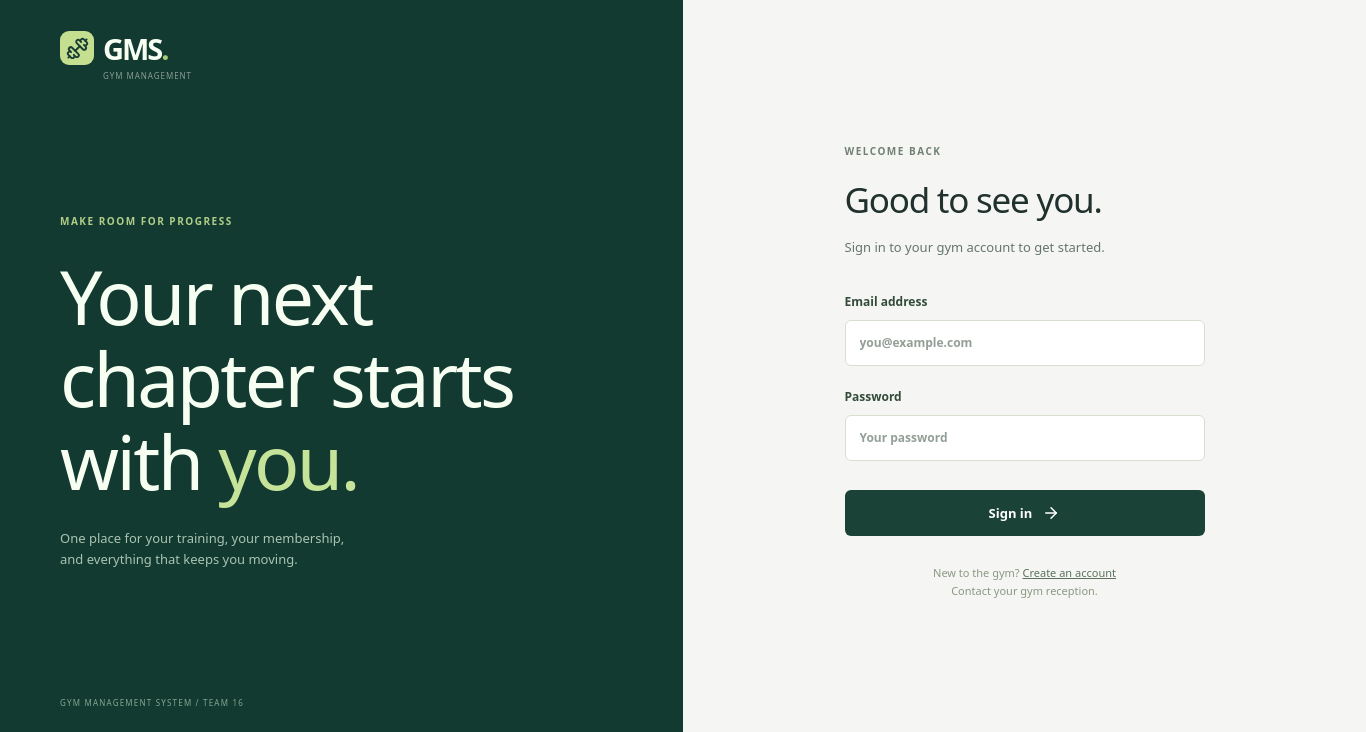
Scenario: member registration UI / issue #2 › submits only registration fields and returns to login with the email prefilled
The image size is (1366, 732).
Click the button "Create an account" at [1069, 573], box [1022,564,1116,582]
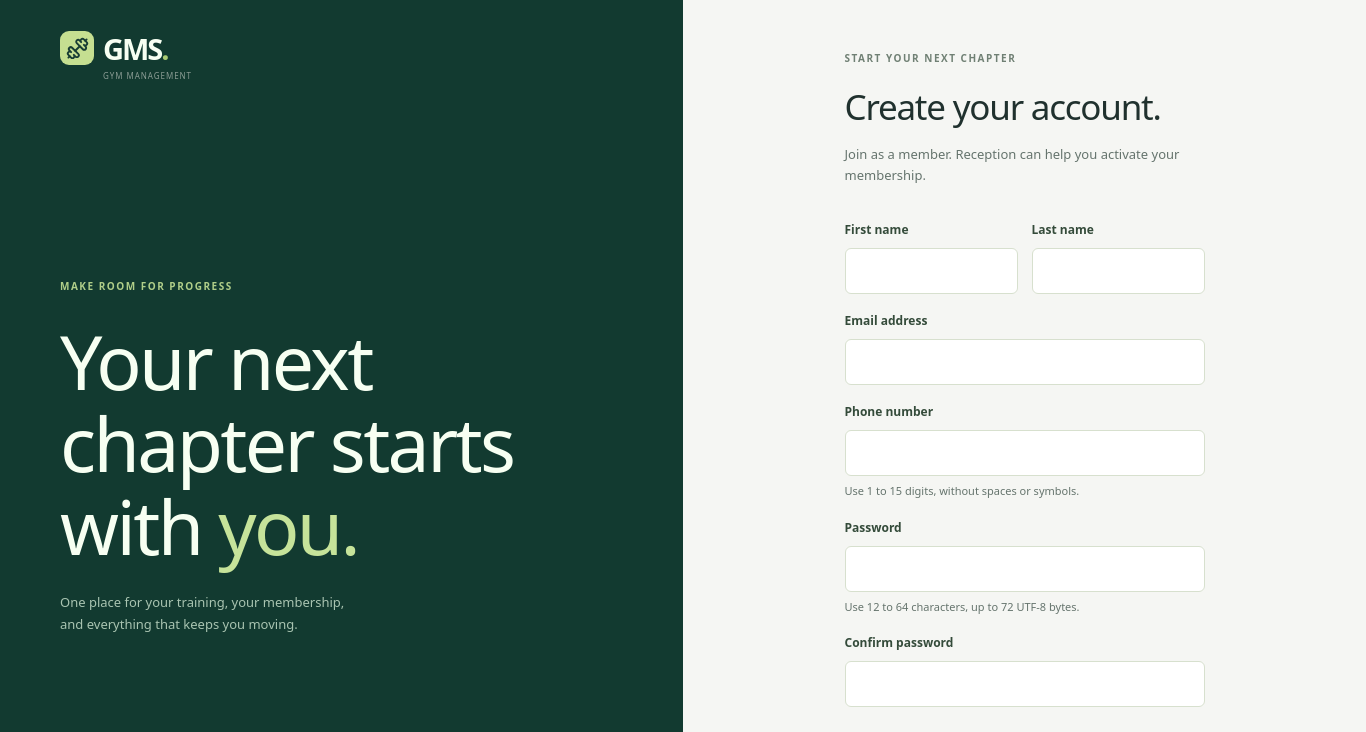
Type "Nitesh" into the field labelled "First name" at [931, 271], box [844,248,1018,294]
Type "Harsur" into the field labelled "Last name" at [1118, 271], box [1032,248,1204,294]
Type "NITESH@GYM.TEST" into the field labelled "Email address" at [1024, 362], box [844,339,1204,385]
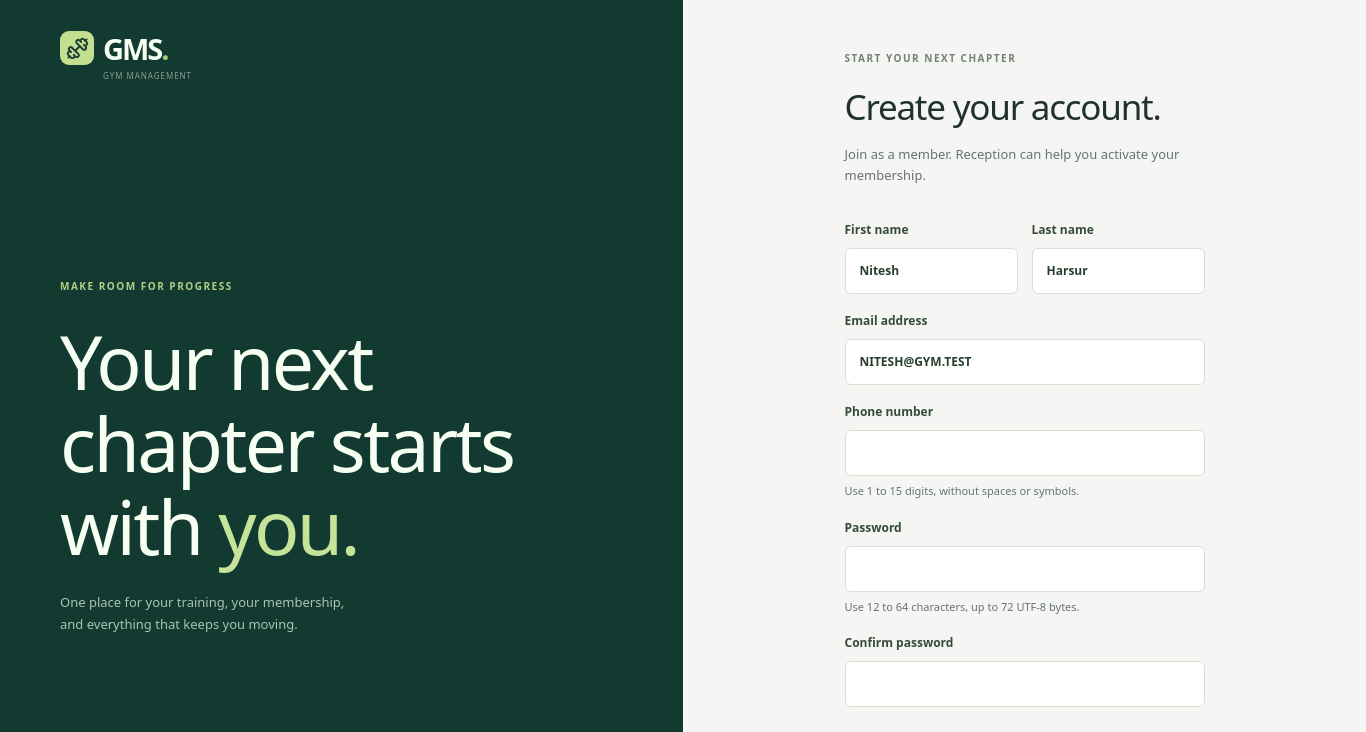
Type "09876543210" into the field labelled "Phone number" at [1024, 453], box [844,430,1204,476]
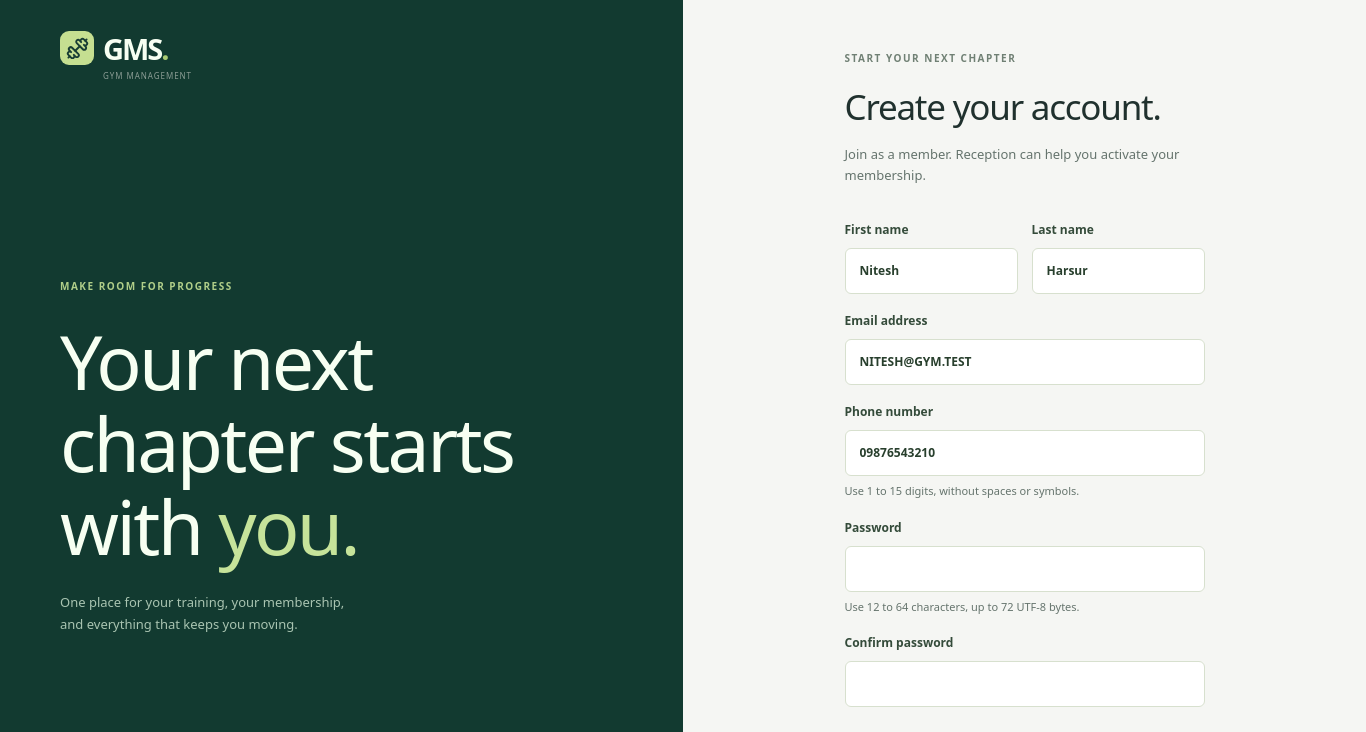
Type "a-long-member-password" into the password field labelled "Password" at [1024, 568], box [844,546,1204,592]
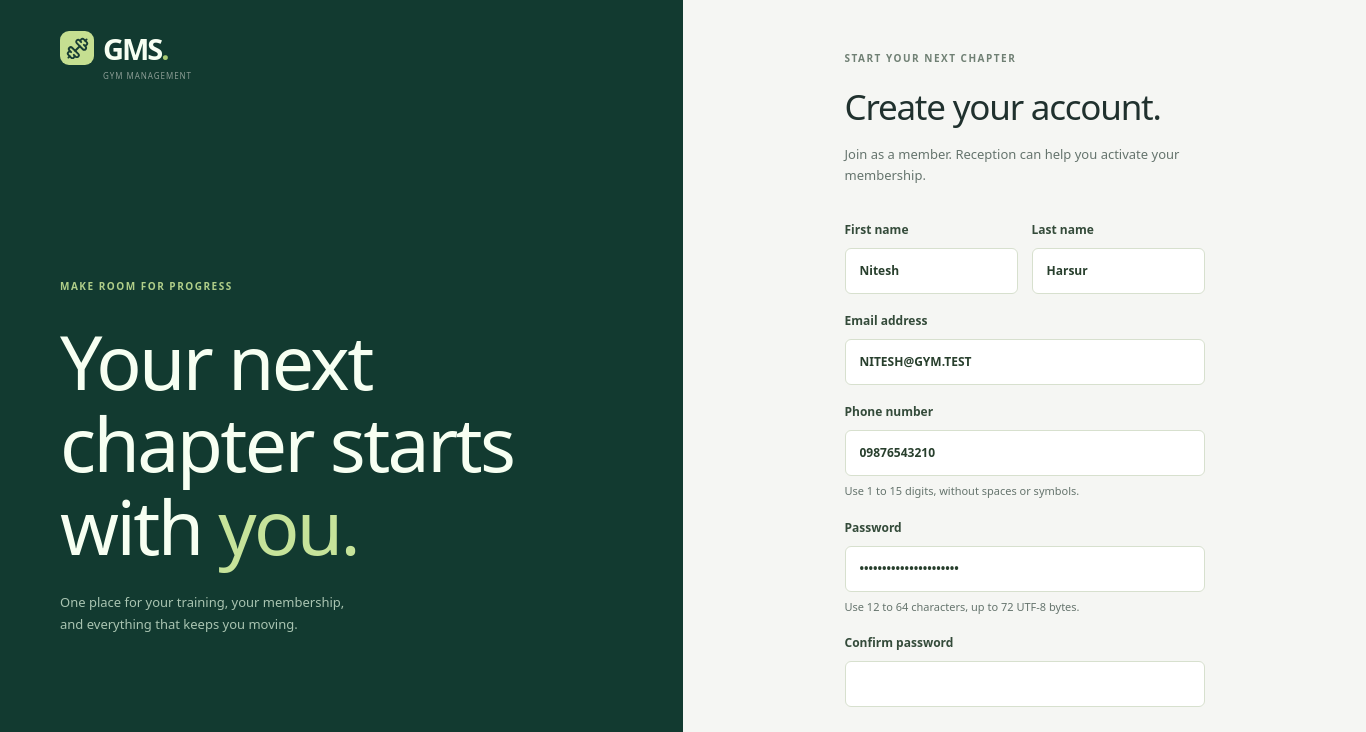
Type "a-long-member-password" into the password field labelled "Confirm password" at [1024, 684], box [844,661,1204,707]
(page scrolled)
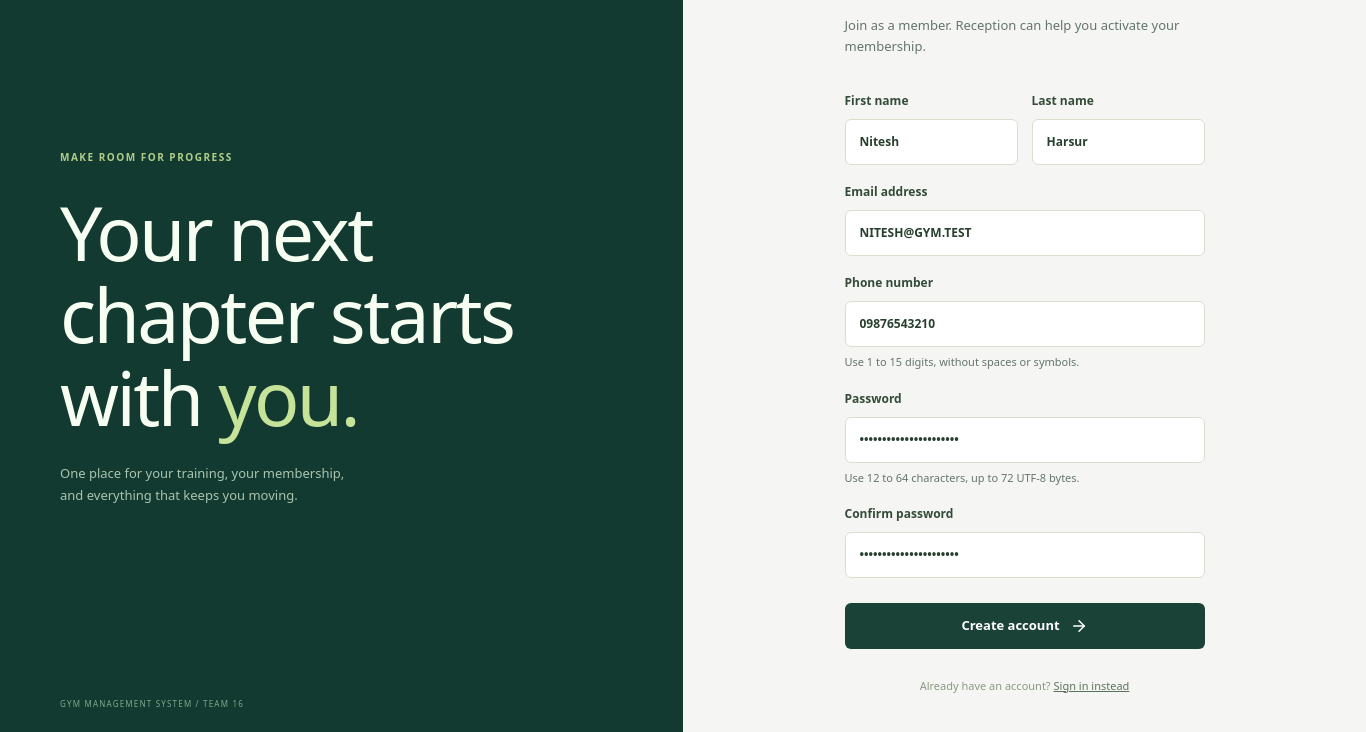
Submit the form named "Member registration", box [844,92,1204,649]
(page scrolled)
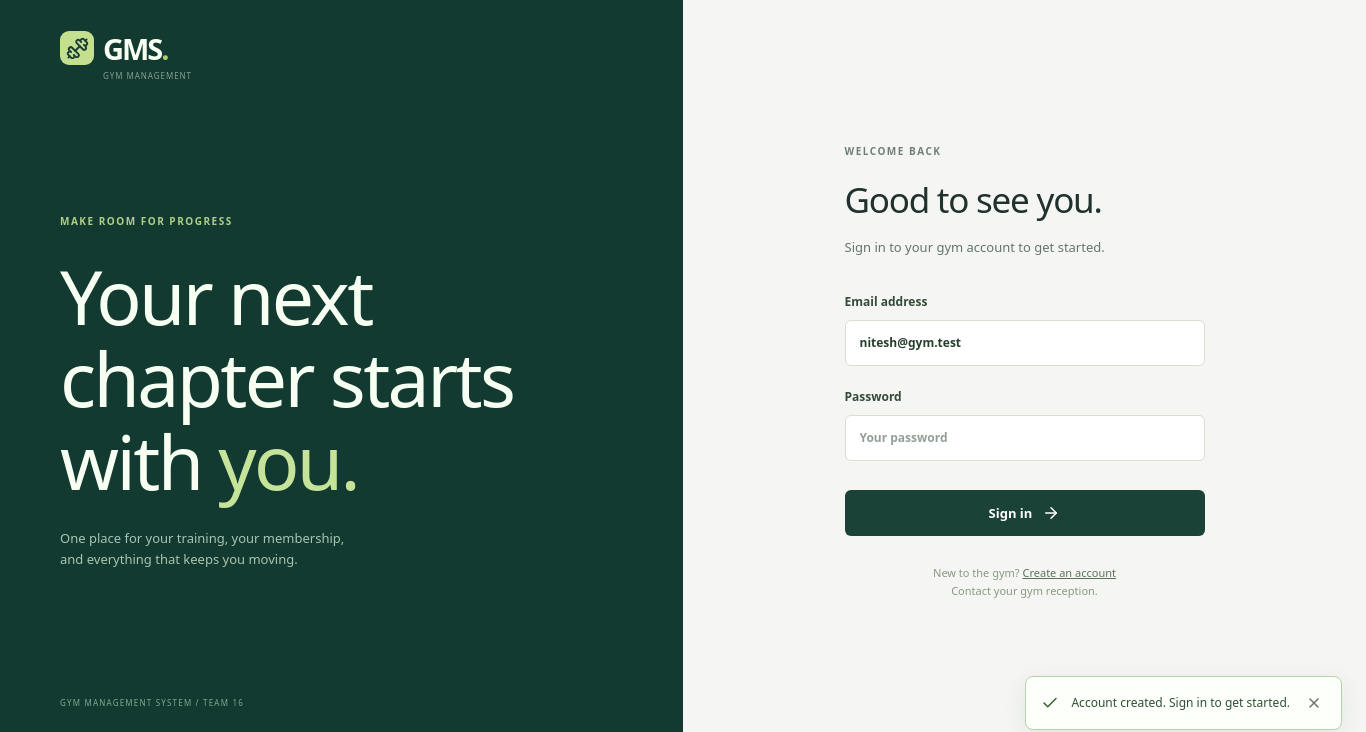
Expected: the heading "Good to see you." is shown, [844,176,1102,223]
Expected: the field labelled "Email address" holds "nitesh@gym.test", [844,320,1204,366]
Expected: the password field labelled "Password" is empty, [844,415,1204,461]
